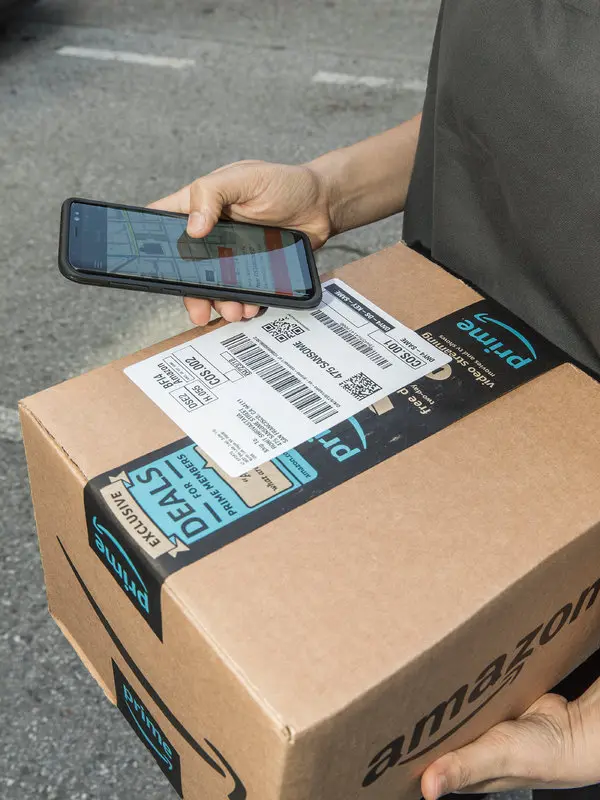package: (14, 229, 600, 800)
